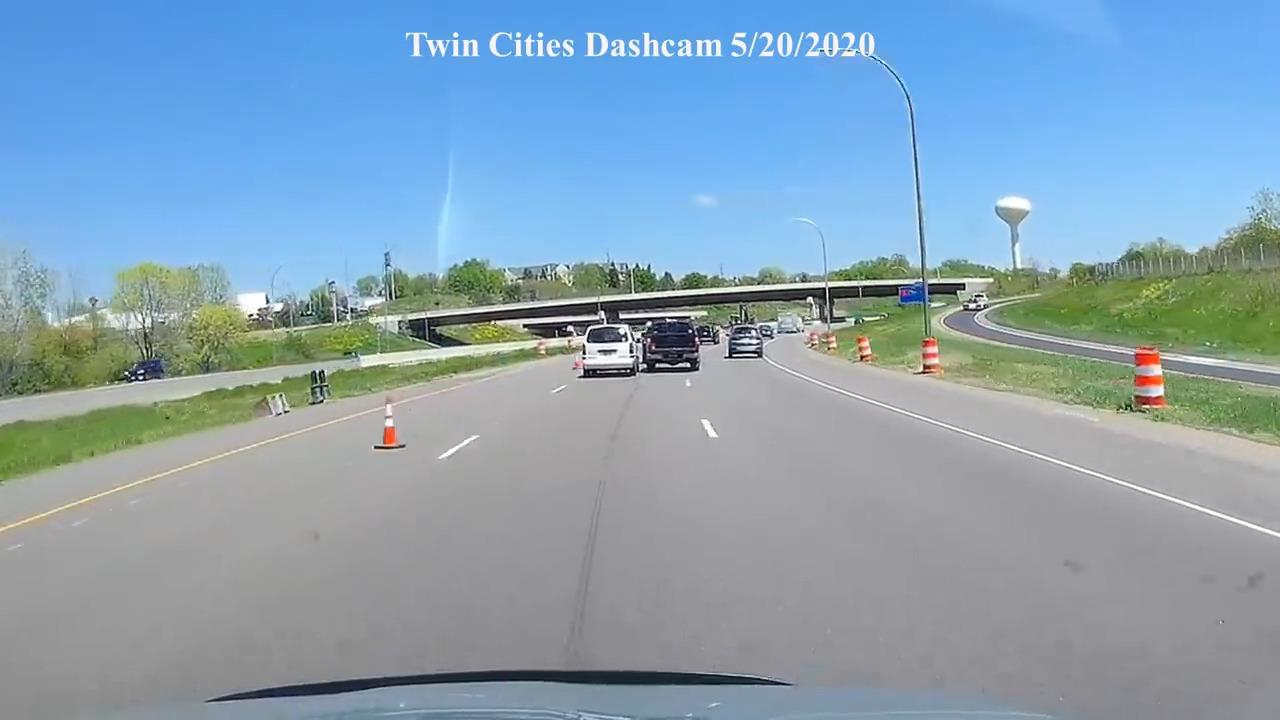car: (579, 324, 640, 378), (122, 359, 166, 383)
traffic cone: (1132, 346, 1171, 410), (374, 394, 406, 450), (919, 338, 942, 376)
